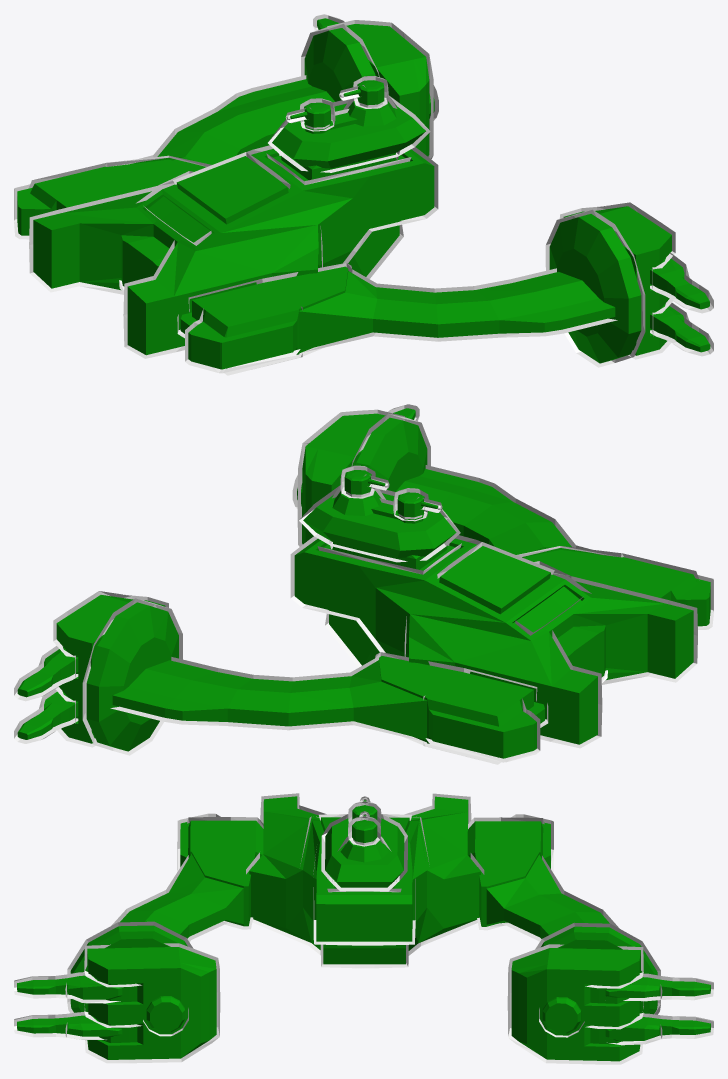
Rendered from ship7_green.glb.
3 views of the same model, one above another, from view 1: azimuth 30°, elevation 25°; view 2: azimuth 150°, elevation 25°; view 3: azimuth 270°, elevation 25° (orthographic). The views are drawn at different scales.
Parts seen in each view (by area): view 1: ME_ship_IndexedFaceSet; view 2: ME_ship_IndexedFaceSet; view 3: ME_ship_IndexedFaceSet.
Boxes of the visible parts, box(x1,y1,x2,y2) form: ME_ship_IndexedFaceSet: box(14, 14, 713, 375); ME_ship_IndexedFaceSet: box(14, 404, 713, 764); ME_ship_IndexedFaceSet: box(14, 793, 713, 1064).
Size of the model in its own units: 238 by 105 by 355.
